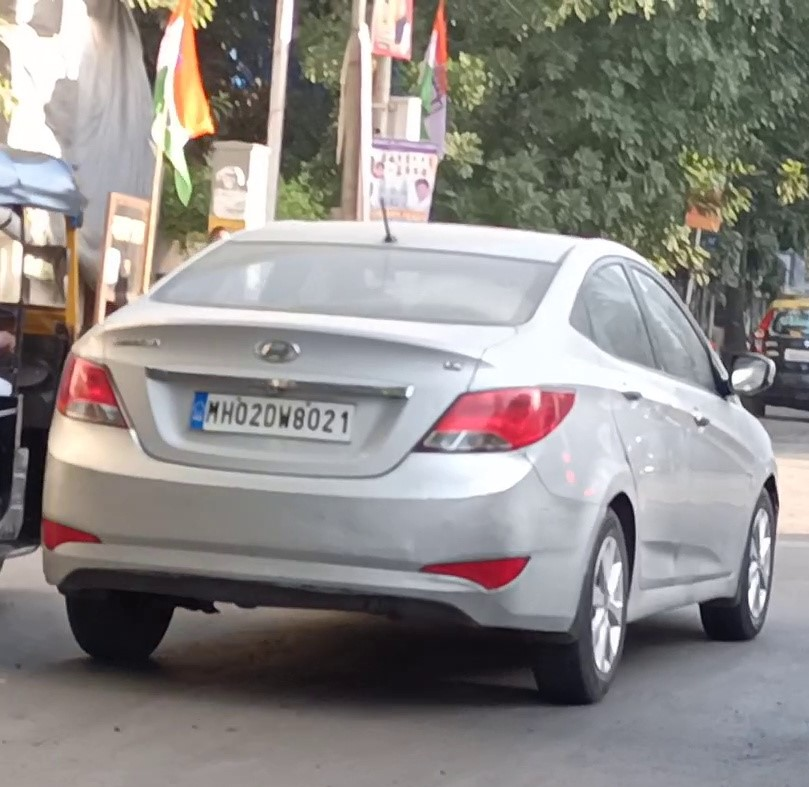MH02DW8021: (188, 390, 356, 441)
